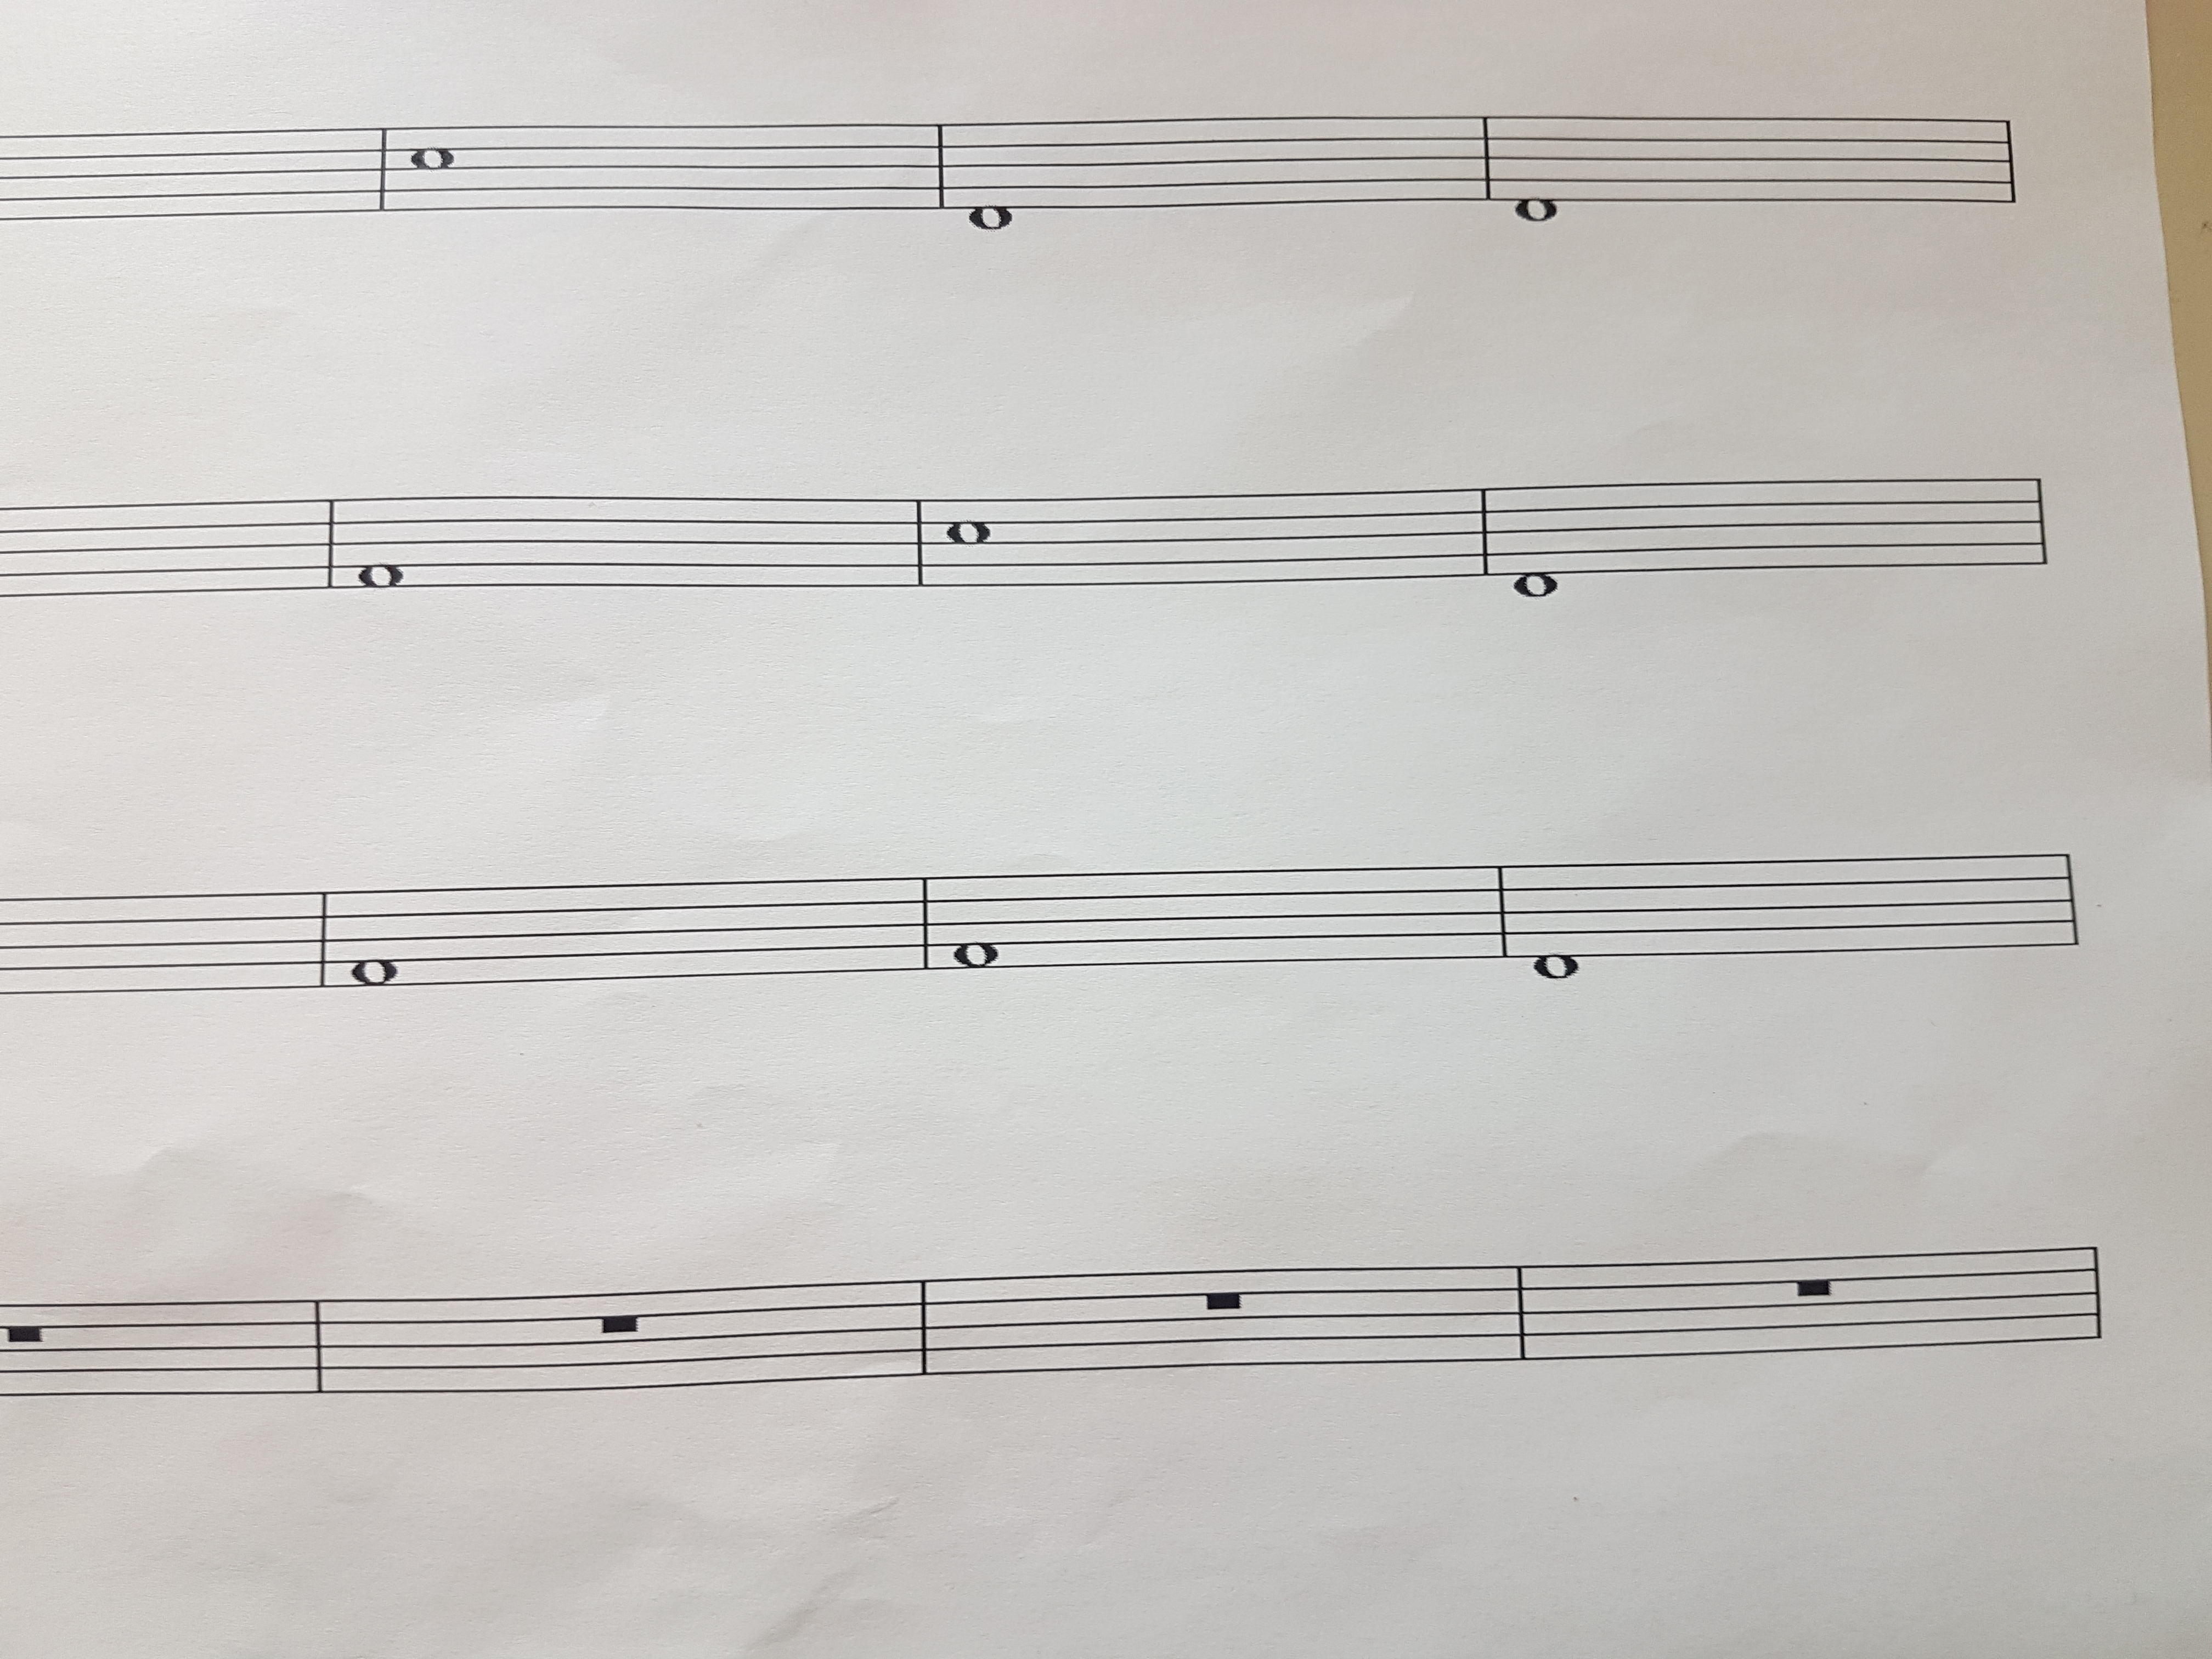pipe: (902, 479, 937, 603), (909, 1262, 941, 1385), (305, 1283, 333, 1413), (2060, 835, 2090, 953), (1474, 99, 1503, 213), (913, 863, 939, 988), (1508, 1255, 1534, 1380), (1491, 849, 1517, 972), (2087, 1232, 2113, 1356), (317, 488, 343, 603), (1472, 477, 1498, 591), (310, 875, 333, 1002), (2000, 105, 2026, 214), (2031, 465, 2057, 575), (371, 119, 399, 220), (927, 106, 951, 220)
semibreve_c: (404, 98, 460, 232), (942, 476, 998, 610)
semibreve_d: (1527, 830, 1587, 995), (1510, 89, 1568, 246), (1510, 458, 1566, 619), (961, 96, 1015, 256)
semibreve_f: (341, 857, 402, 1011), (352, 472, 411, 624), (949, 843, 1003, 997)
